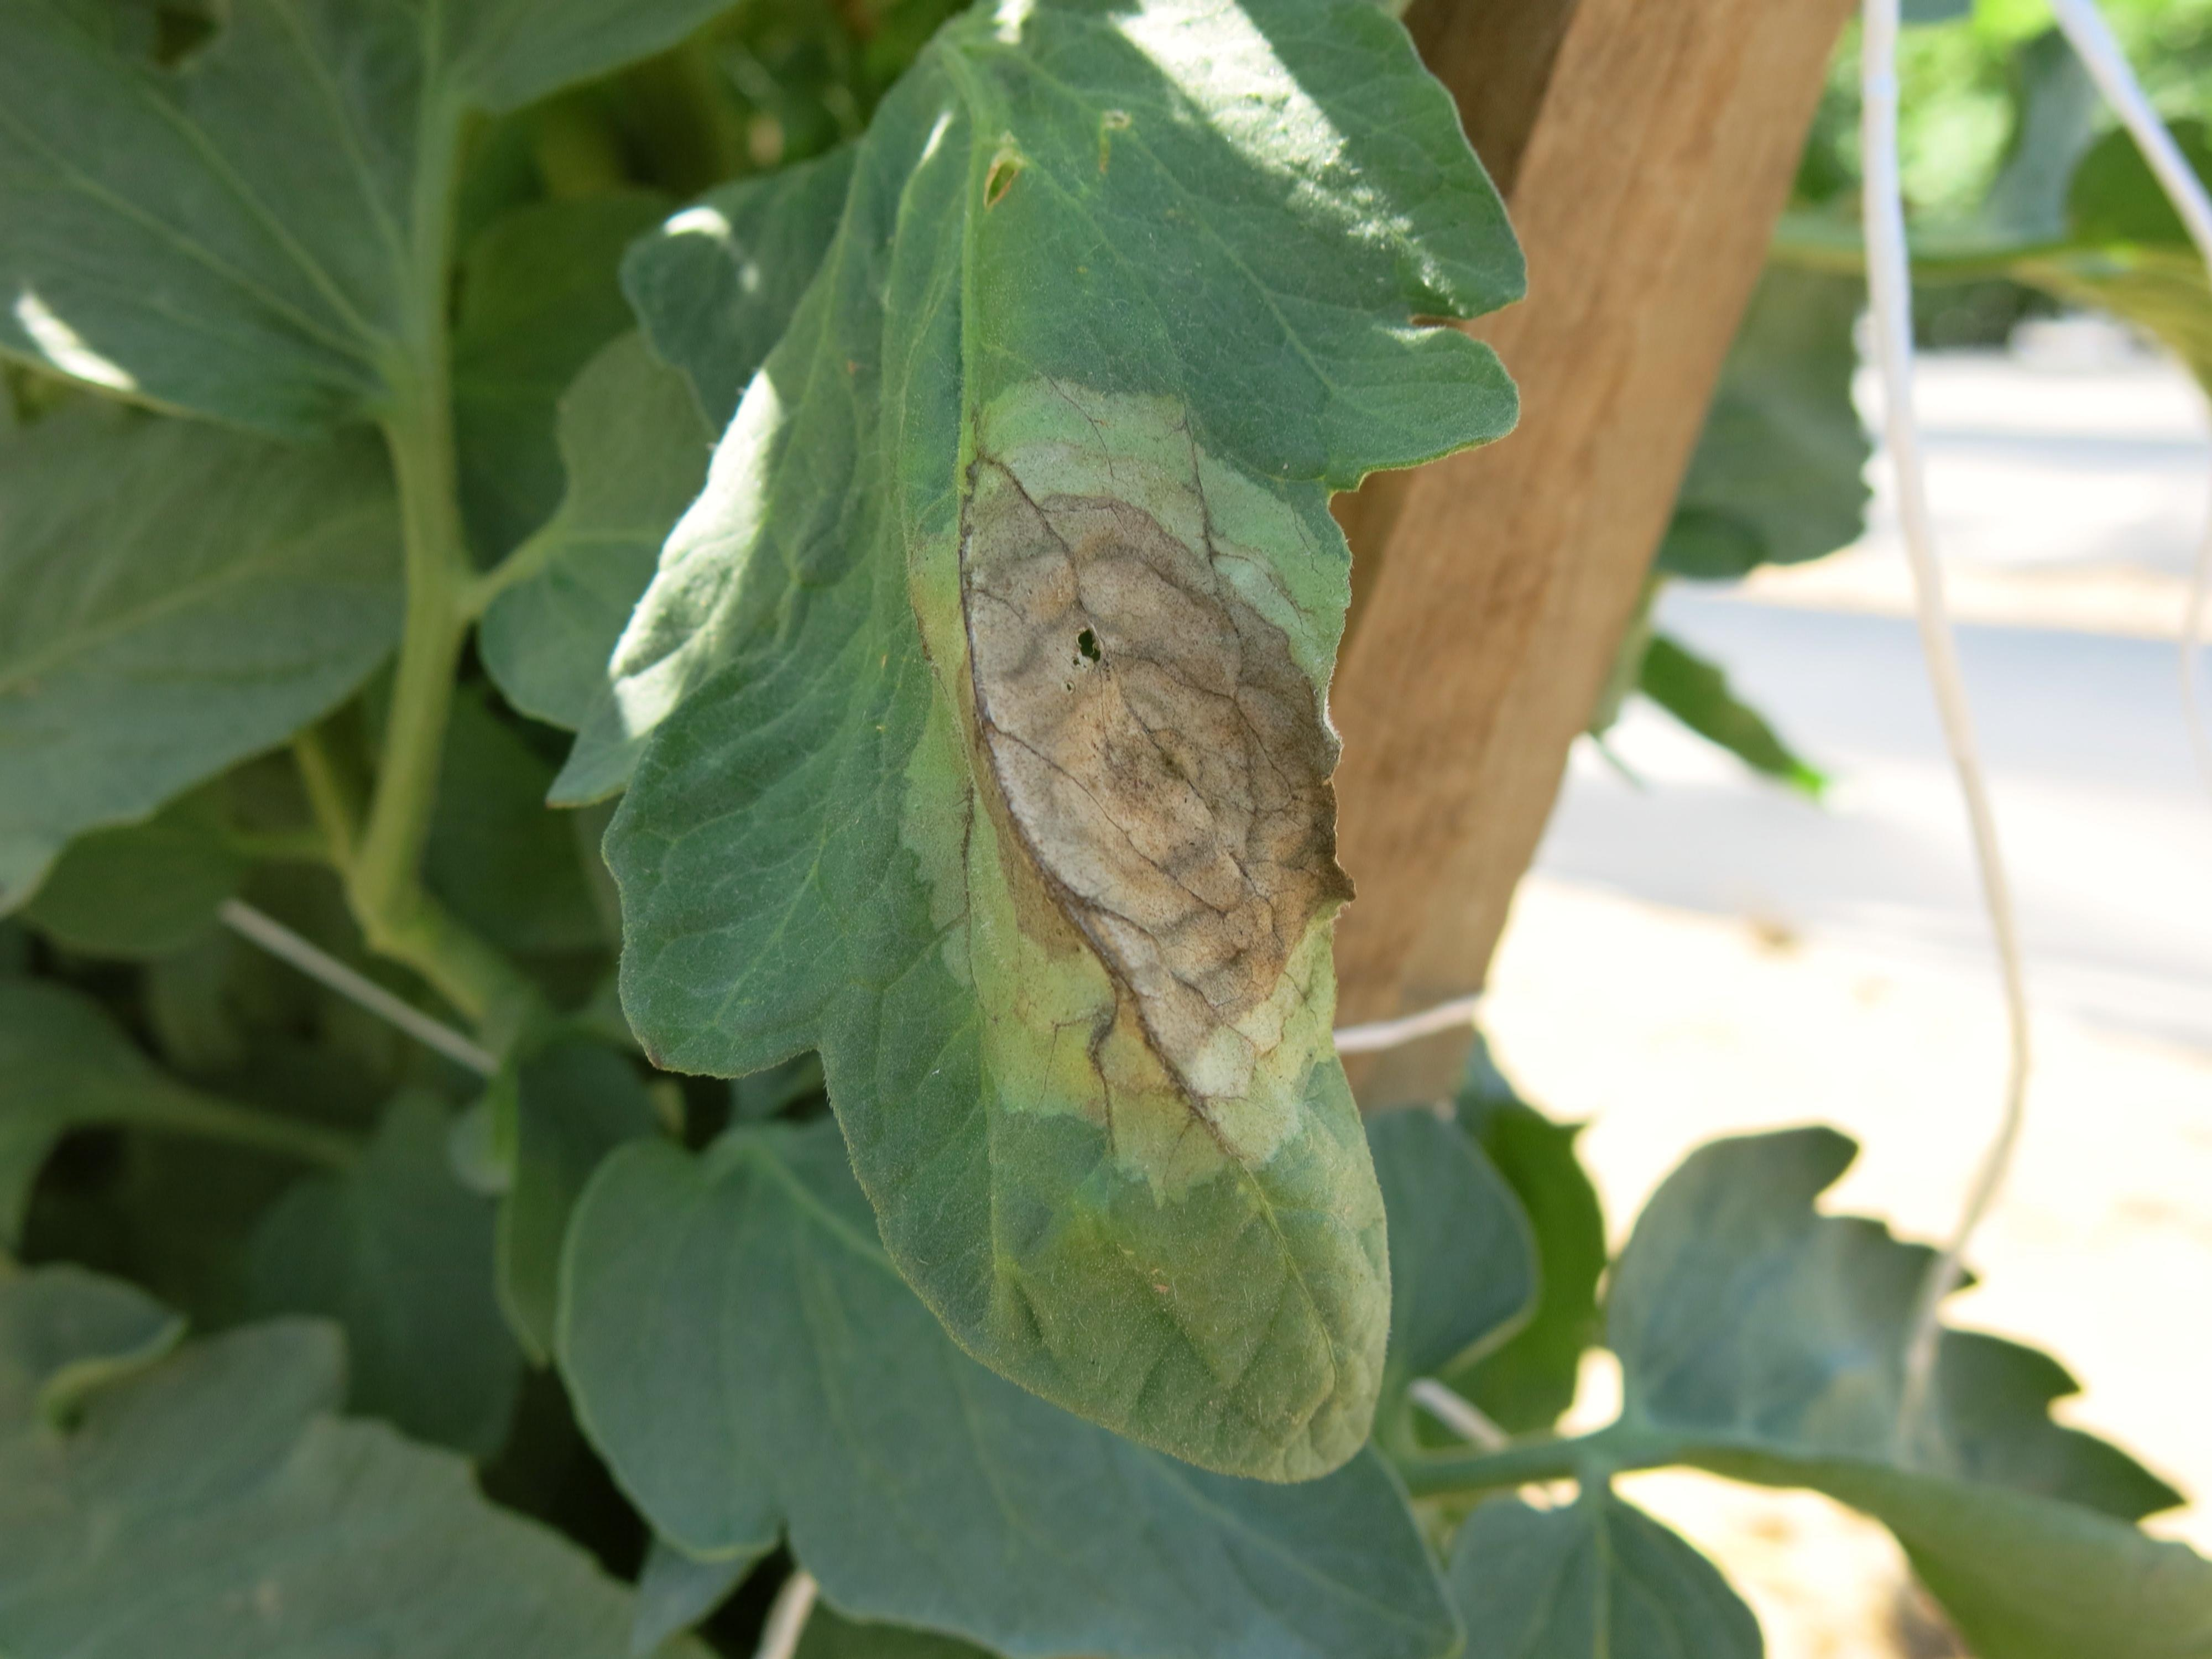Tomato leaf late blight: (488, 14, 1540, 1532)
